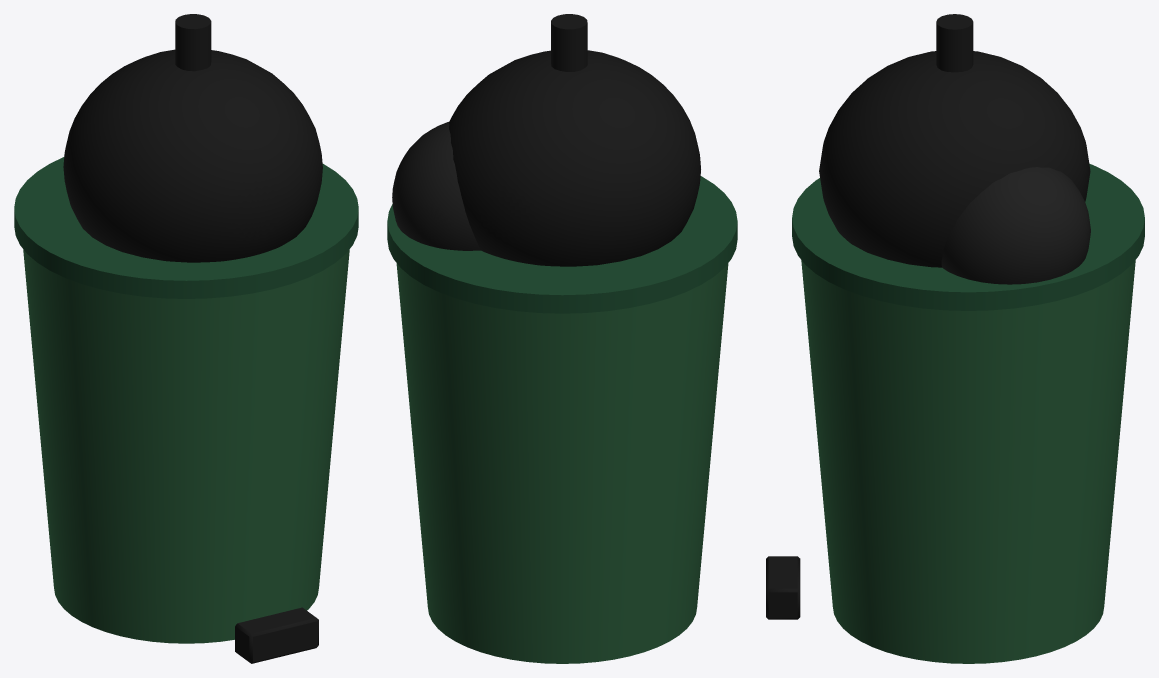
File: ThungRacNhua.glb
3 renders of one model, left to right at view 1: azimuth 30°, elevation 25°; view 2: azimuth 150°, elevation 25°; view 3: azimuth 270°, elevation 25°, orthographic. The views are drawn at different scales.
Parts seen in each view (by area): view 1: ThungRacNhua; view 2: ThungRacNhua; view 3: ThungRacNhua.
Boxes of the visible parts, box(x1,y1,x2,y2) form: ThungRacNhua: box(14, 14, 358, 663); ThungRacNhua: box(387, 14, 737, 663); ThungRacNhua: box(766, 14, 1144, 663).
Size of the model in its own units: 0.5141 by 0.94 by 0.552.
